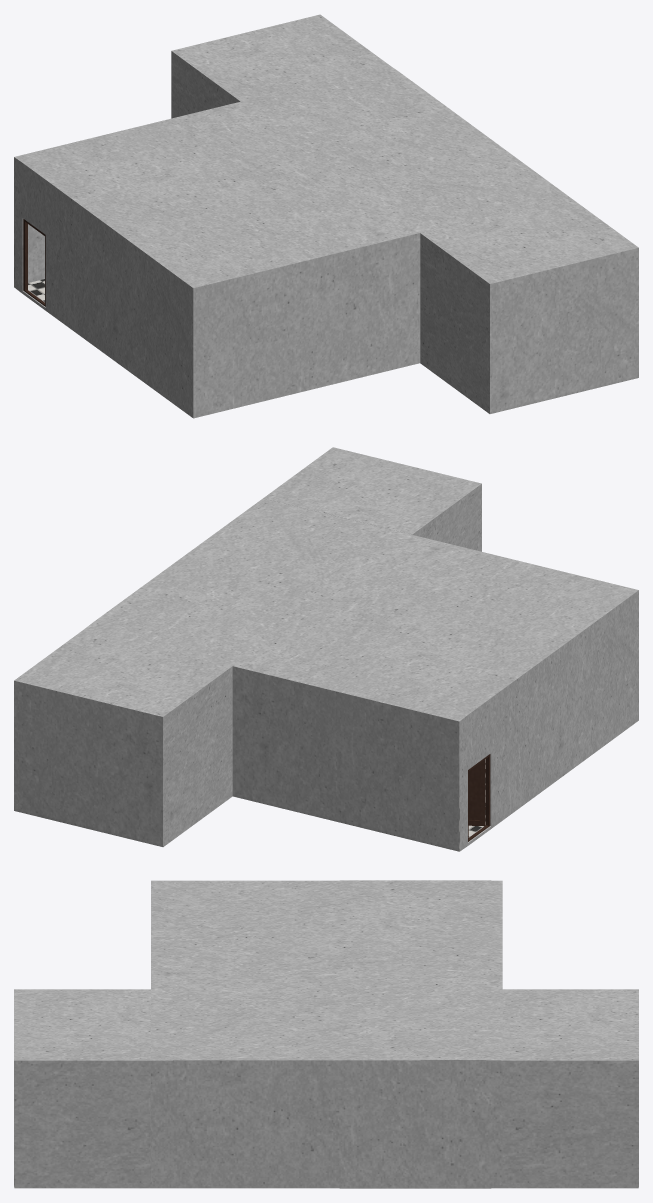
File: room.fbx
3 renders of one model, top to bottom at view 1: azimuth 30°, elevation 25°; view 2: azimuth 150°, elevation 25°; view 3: azimuth 270°, elevation 25°, orthographic. The views are drawn at different scales.
Parts seen in each view (by area): view 1: center_room, right_room, left_room; view 2: center_room, left_room, right_room, door__1; view 3: center_room, right_room, left_room.
Boxes of the visible parts, x1,y1,x2,y2 form: center_room: (14,65,568,418); right_room: (420,196,638,413); left_room: (171,14,389,118); center_room: (84,498,638,851); left_room: (14,630,232,846); right_room: (263,447,481,551); door__1: (468,759,485,826); center_room: (151,880,502,1188); right_room: (14,989,150,1188); left_room: (502,989,638,1188).
Size of the model in its own units: 1068 by 356 by 1569.
Materials: 2 (2 with a texture image).
